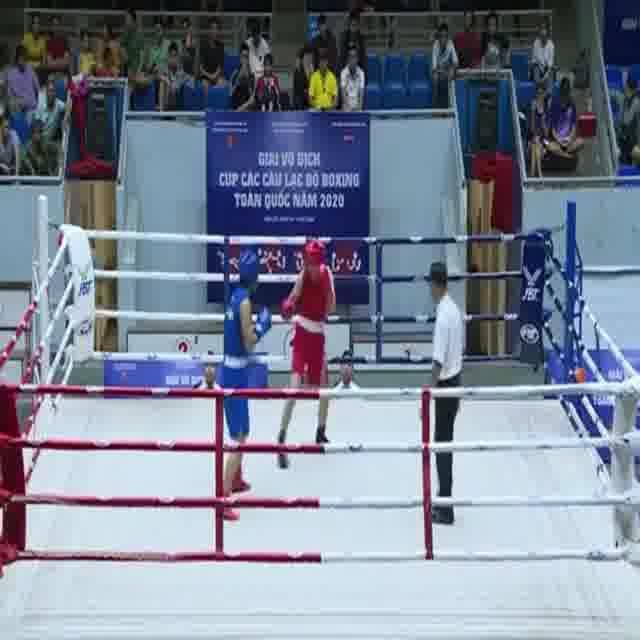blue-player: (210, 247, 272, 524)
red-player: (270, 236, 340, 470)
referee: (423, 257, 466, 527)
